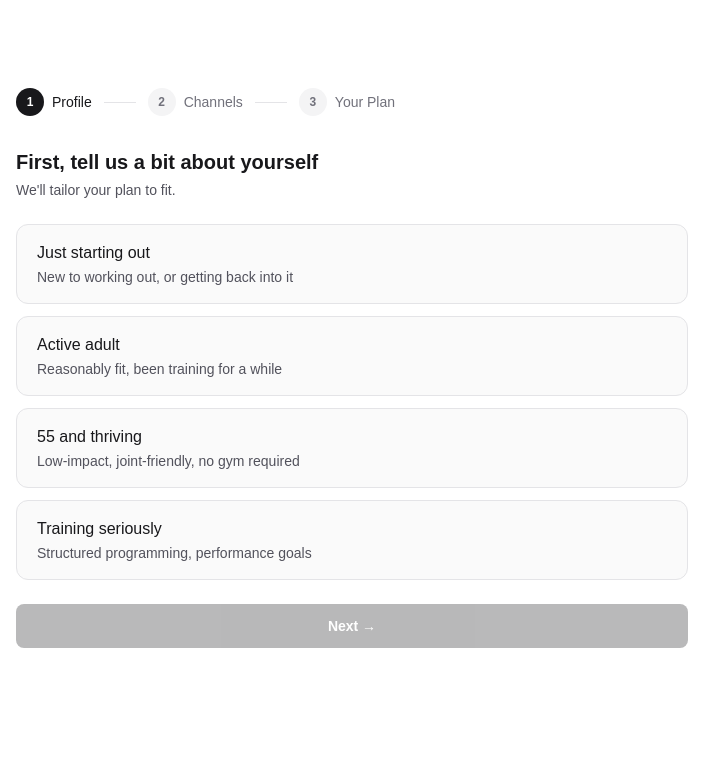
Scenario: OnboardingPage - Step 2 (Goal) › selecting a goal then clicking Next advances to step 3
This screenshot has width=705, height=761.
Expected: the heading "First, tell us a bit about yourself" is shown, 16,151 -> 318,173
Click the text "Active adult". click: click(78, 344)
box: 37,336 -> 120,353
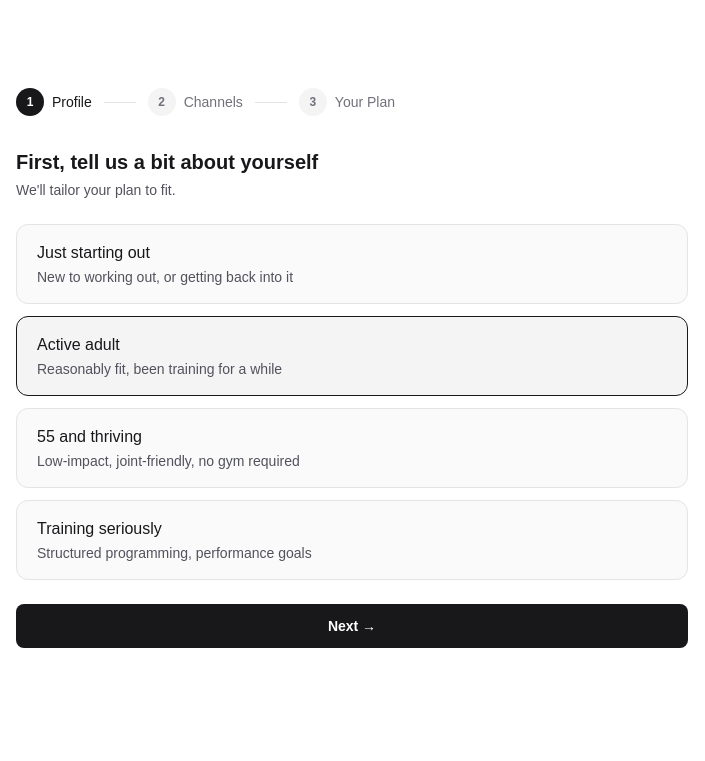
Click the button "Next →". click: click(352, 626)
box: 16,604 -> 688,648
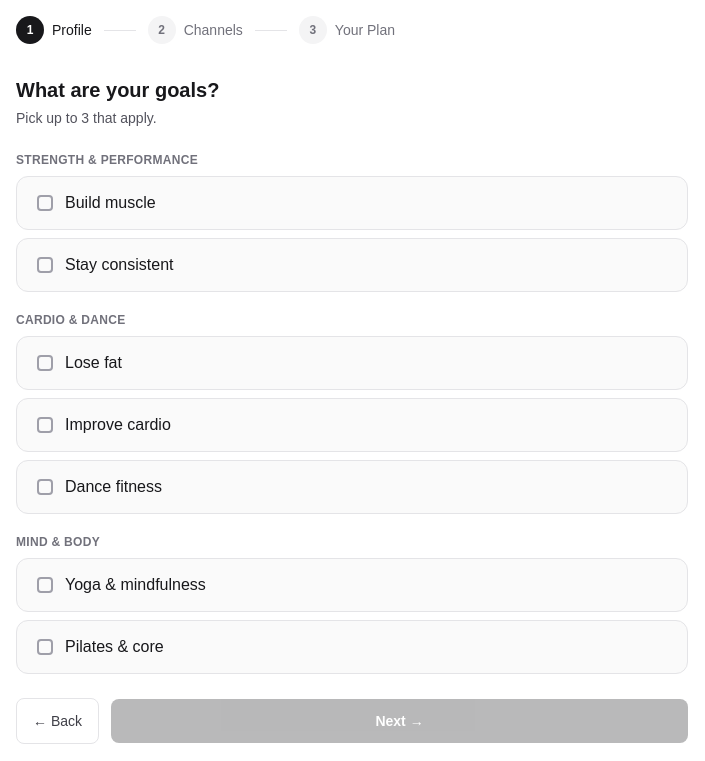
Click the button "Build muscle". click: click(110, 202)
box: 16,176 -> 688,230
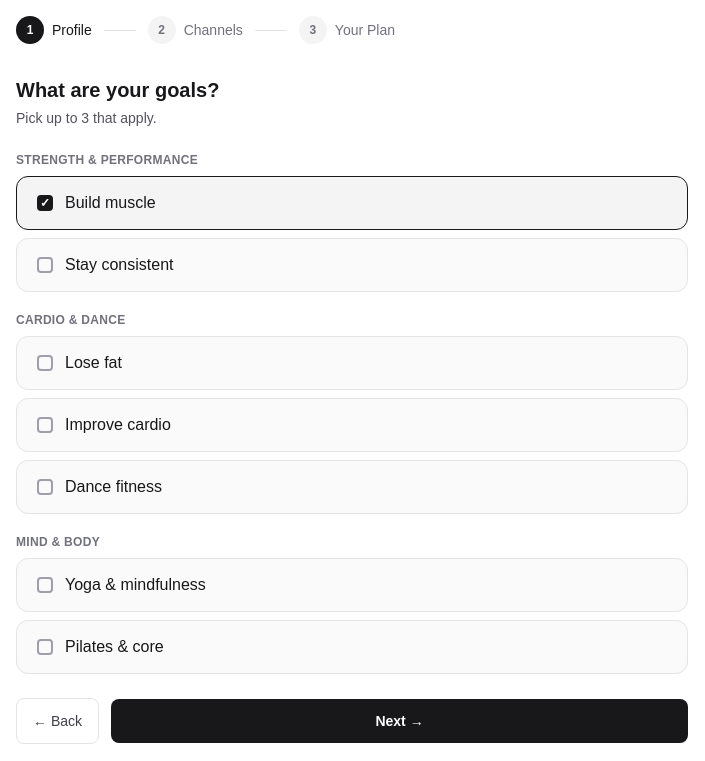
Click the button "Next →". click: click(400, 721)
box: 111,699 -> 688,743
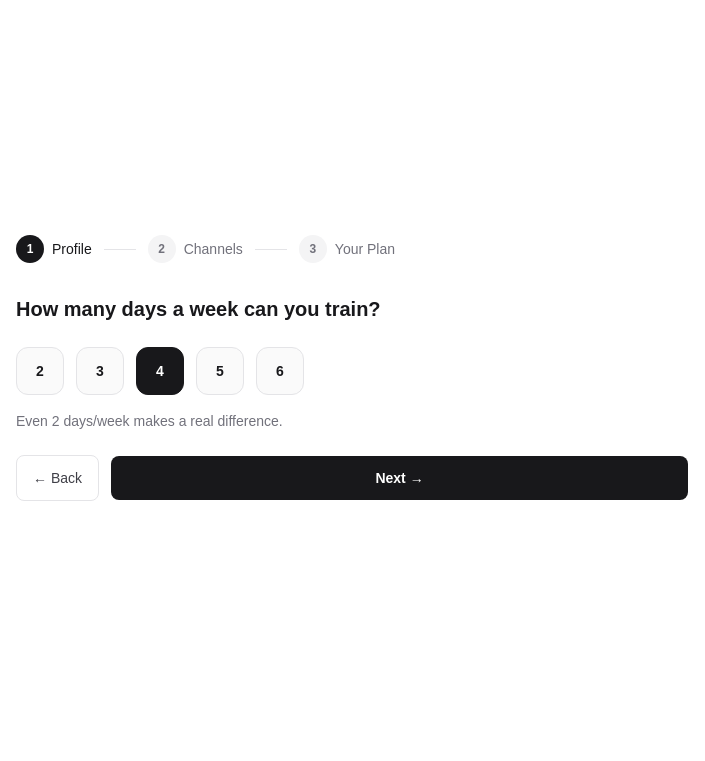
Expected: the heading "How many days a week can you train?" is shown, 16,298 -> 381,320
